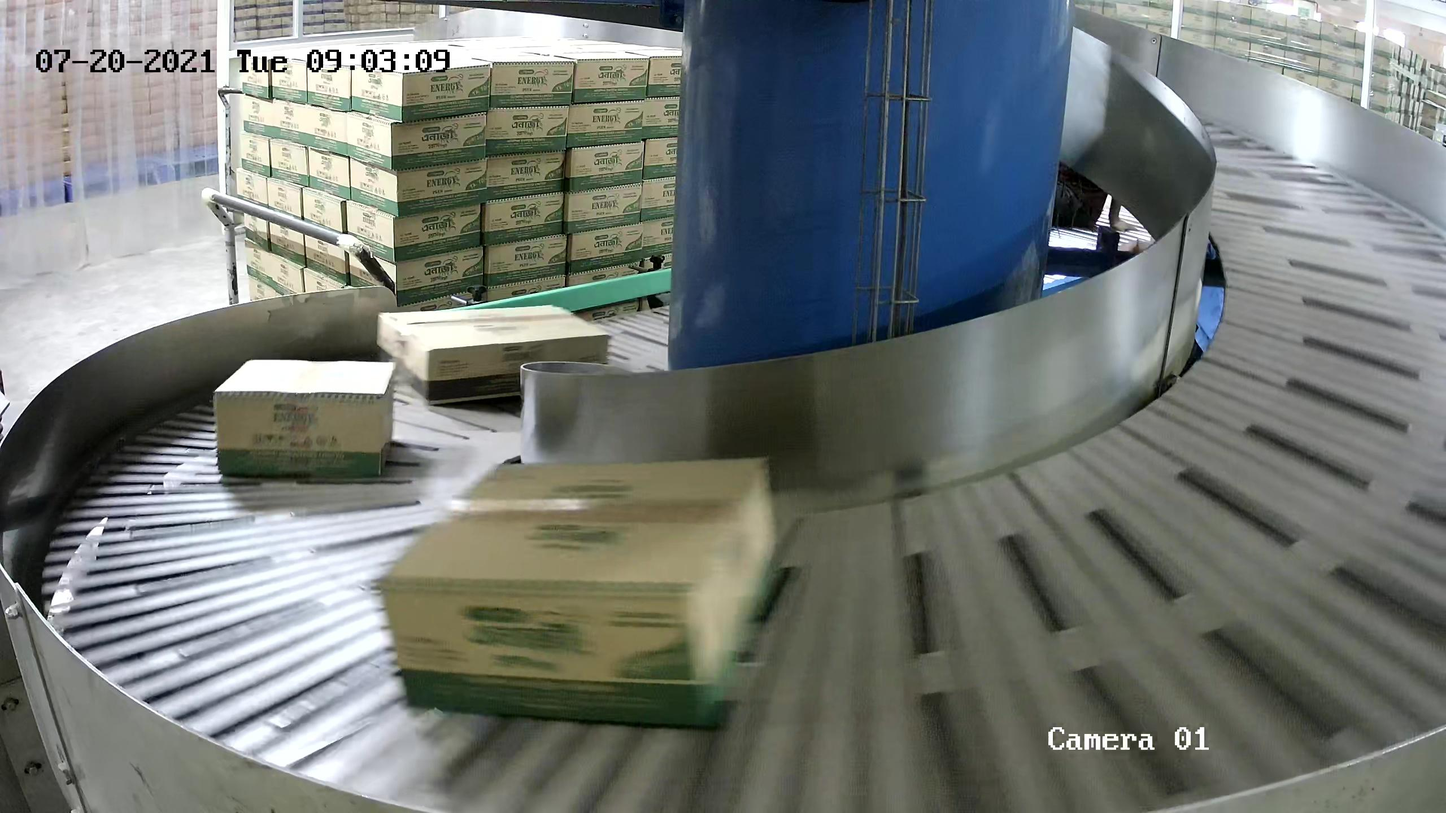Box: (374, 452, 785, 732), (373, 301, 614, 410), (212, 355, 398, 481)
